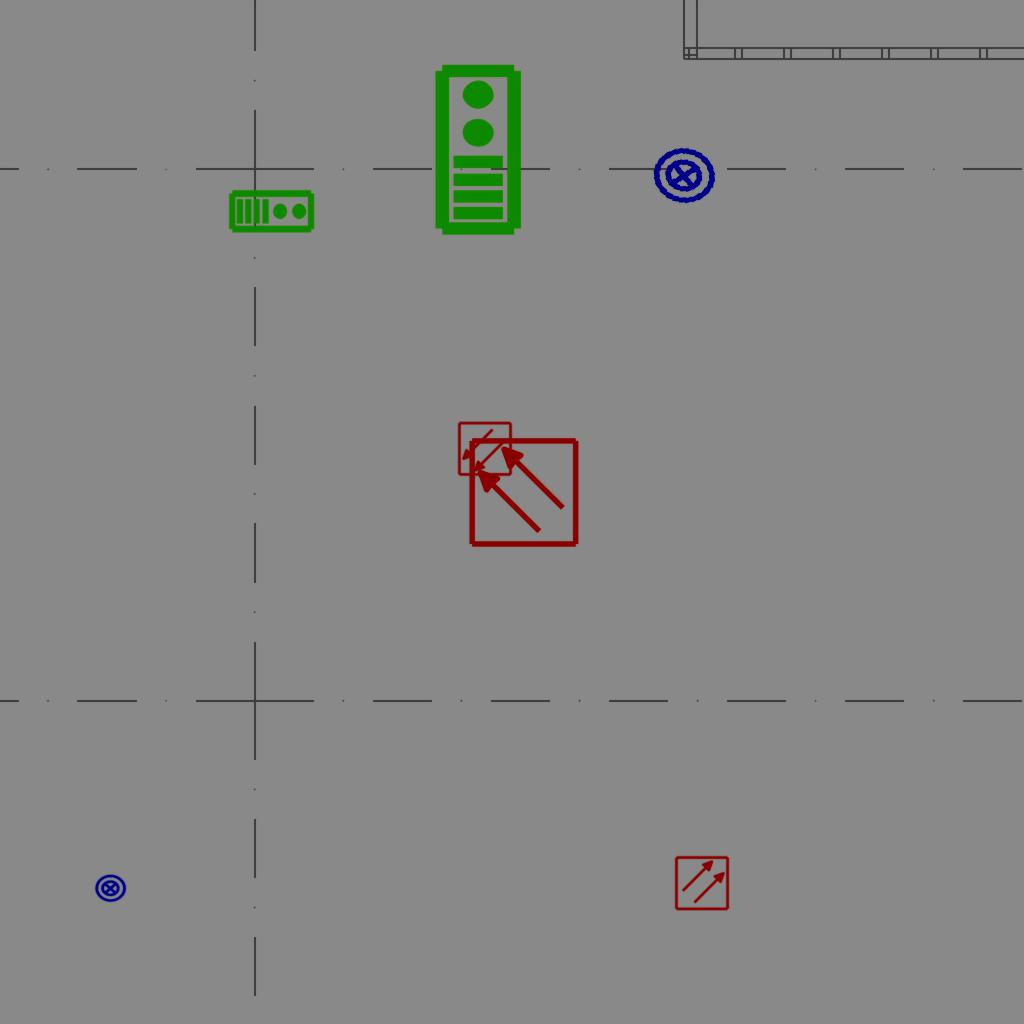Gegensprechanlage_mit_Video: (429, 61, 524, 237), (228, 187, 316, 234)
RMO_Rauchmelder_optischer: (467, 436, 580, 549), (457, 421, 513, 477), (674, 855, 730, 911)
Taster_beleuchtet: (646, 138, 722, 214), (94, 872, 127, 905)
